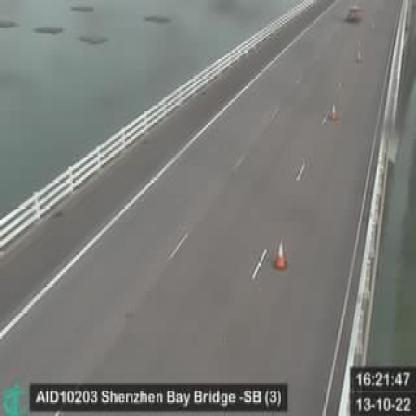Car: (344, 6, 364, 25)
